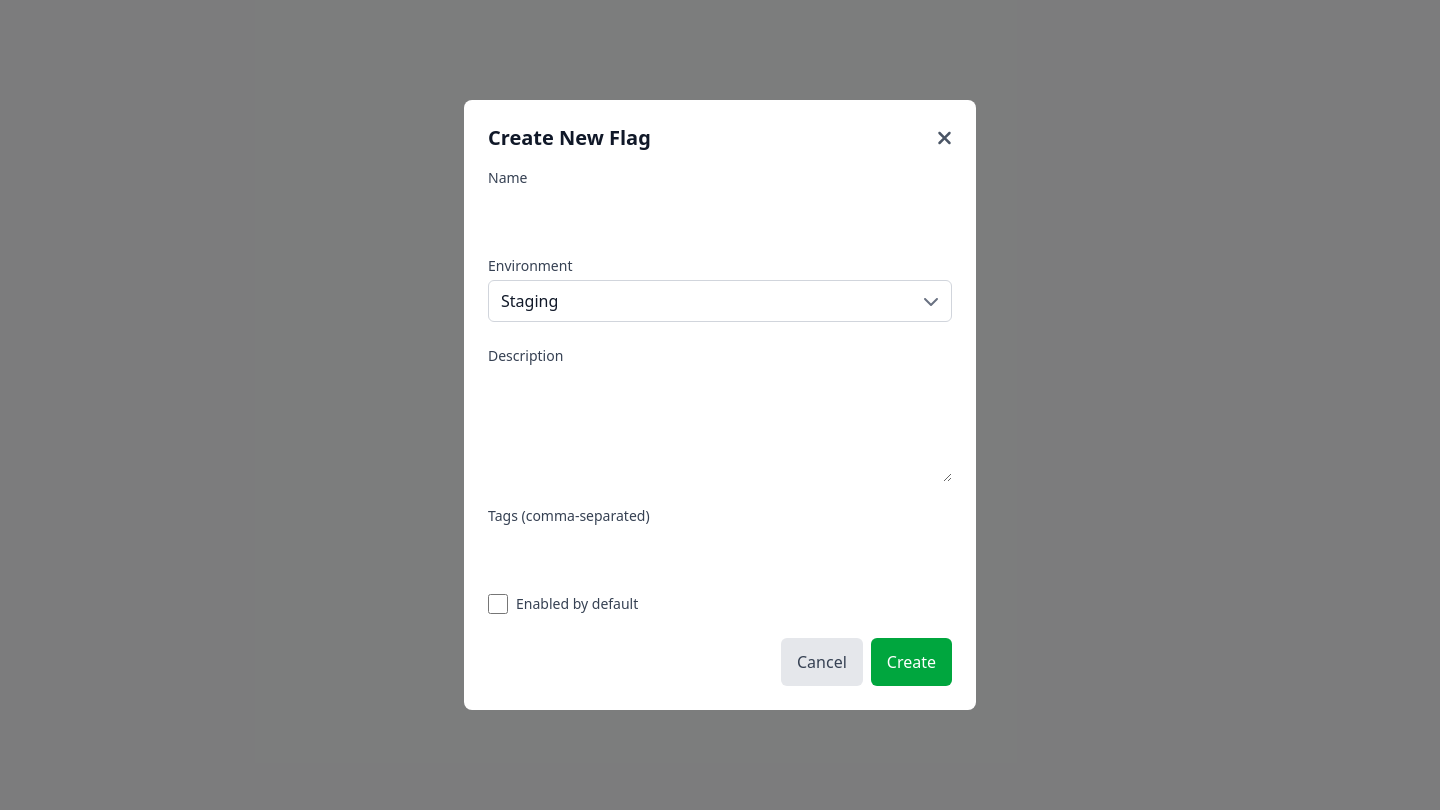
Test: CreateFlagModalV2 › allows environment dropdown selection
Click the button "Staging".
click(530, 301)  # box [488, 280, 952, 322]
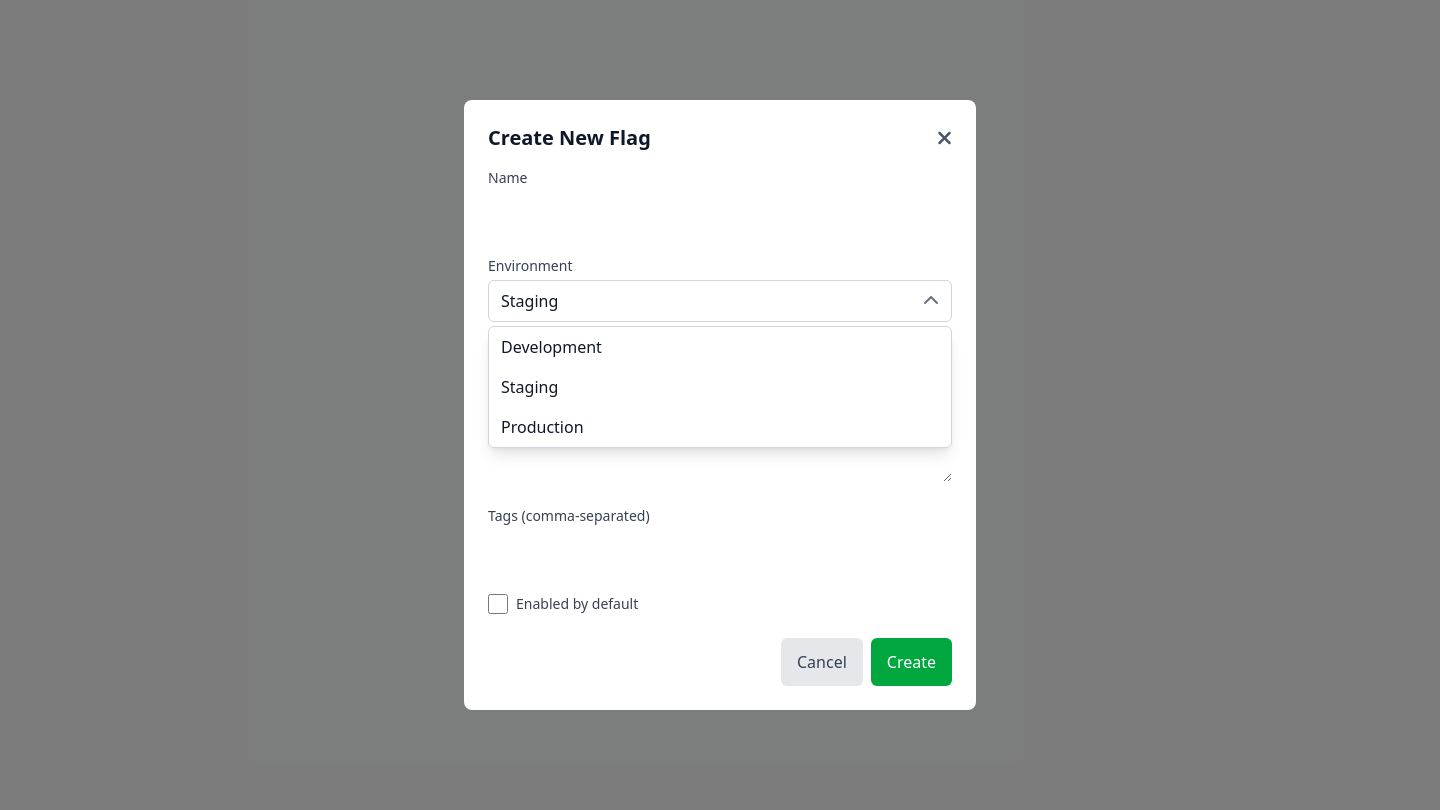
Click the button "Development".
click(551, 347)  # box [489, 327, 951, 367]
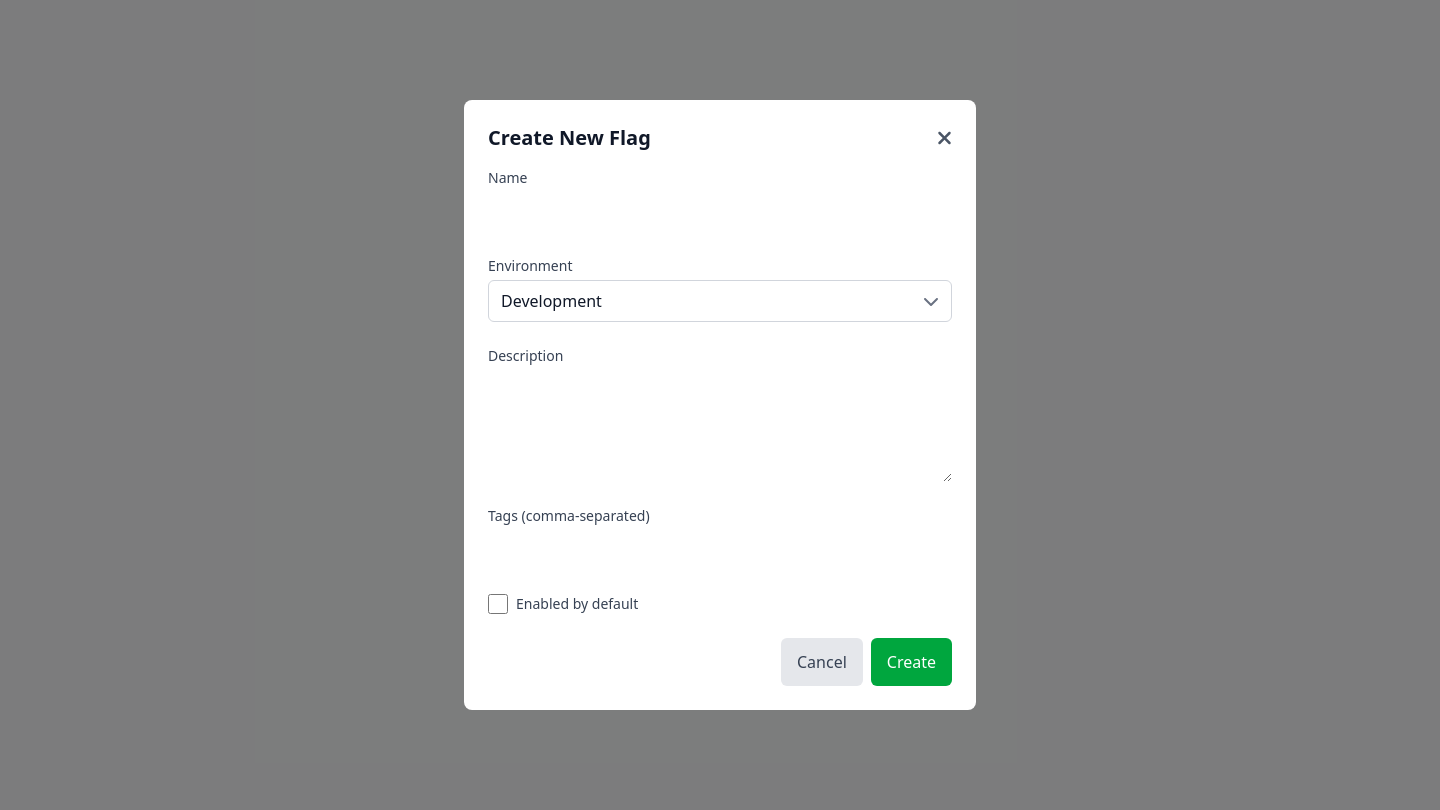
Expected: the text "Development" is shown, [501, 289, 602, 313]
